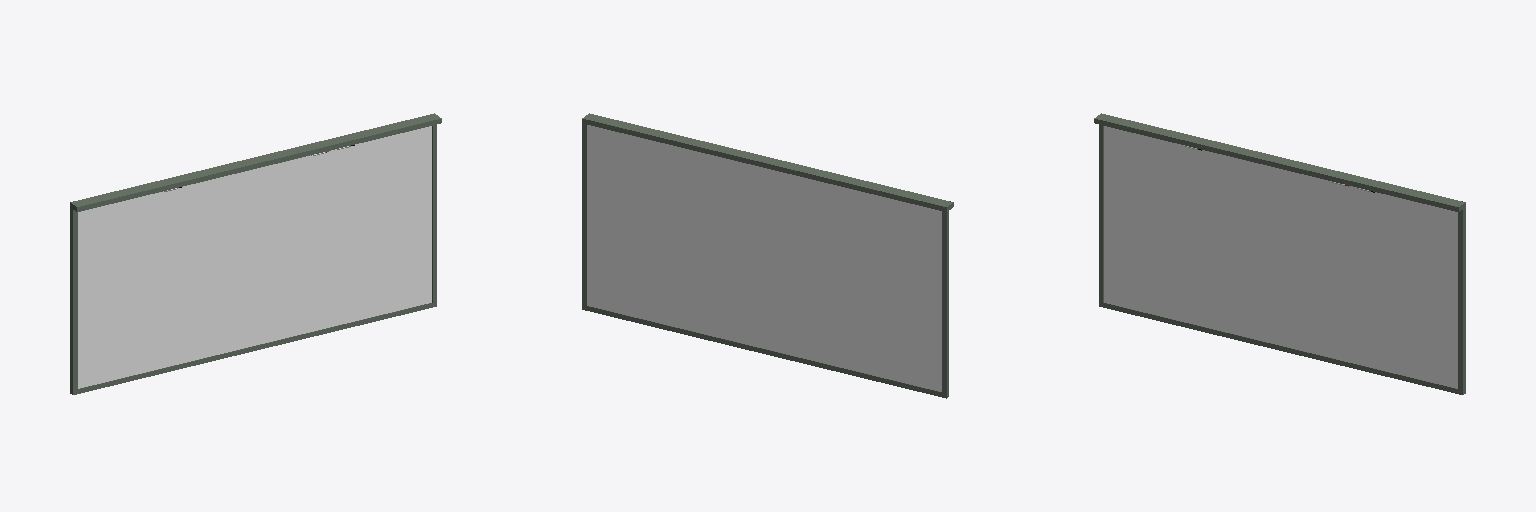
Rendered from WhiteBoard.obj.
3 views of the same model, side by side, from view 1: azimuth 30°, elevation 25°; view 2: azimuth 150°, elevation 25°; view 3: azimuth 330°, elevation 25° (orthographic).
Parts seen in each view (by area): view 1: Whiteboard, Bottom_Edge, Top_Edge, Left_Edge, Right_Edge; view 2: Whiteboard, Bottom_Edge, Top_Edge, Left_Edge, Right_Edge; view 3: Whiteboard, Bottom_Edge, Top_Edge, Right_Edge, Left_Edge.
Boxes of the visible parts, box(x1,y1,x2,y2) form: Whiteboard: box(78, 126, 431, 388); Bottom_Edge: box(70, 114, 441, 211); Top_Edge: box(74, 303, 432, 394); Left_Edge: box(70, 201, 77, 394); Right_Edge: box(430, 113, 436, 306); Whiteboard: box(587, 125, 941, 391); Bottom_Edge: box(582, 113, 953, 210); Top_Edge: box(583, 305, 945, 397); Left_Edge: box(942, 205, 948, 398); Right_Edge: box(582, 117, 588, 310); Whiteboard: box(1104, 126, 1457, 388); Bottom_Edge: box(1094, 113, 1465, 211); Top_Edge: box(1103, 303, 1461, 394); Right_Edge: box(1458, 202, 1465, 394); Left_Edge: box(1099, 114, 1105, 306).
Size of the model in its own units: 96.25 by 48.25 by 3.2.